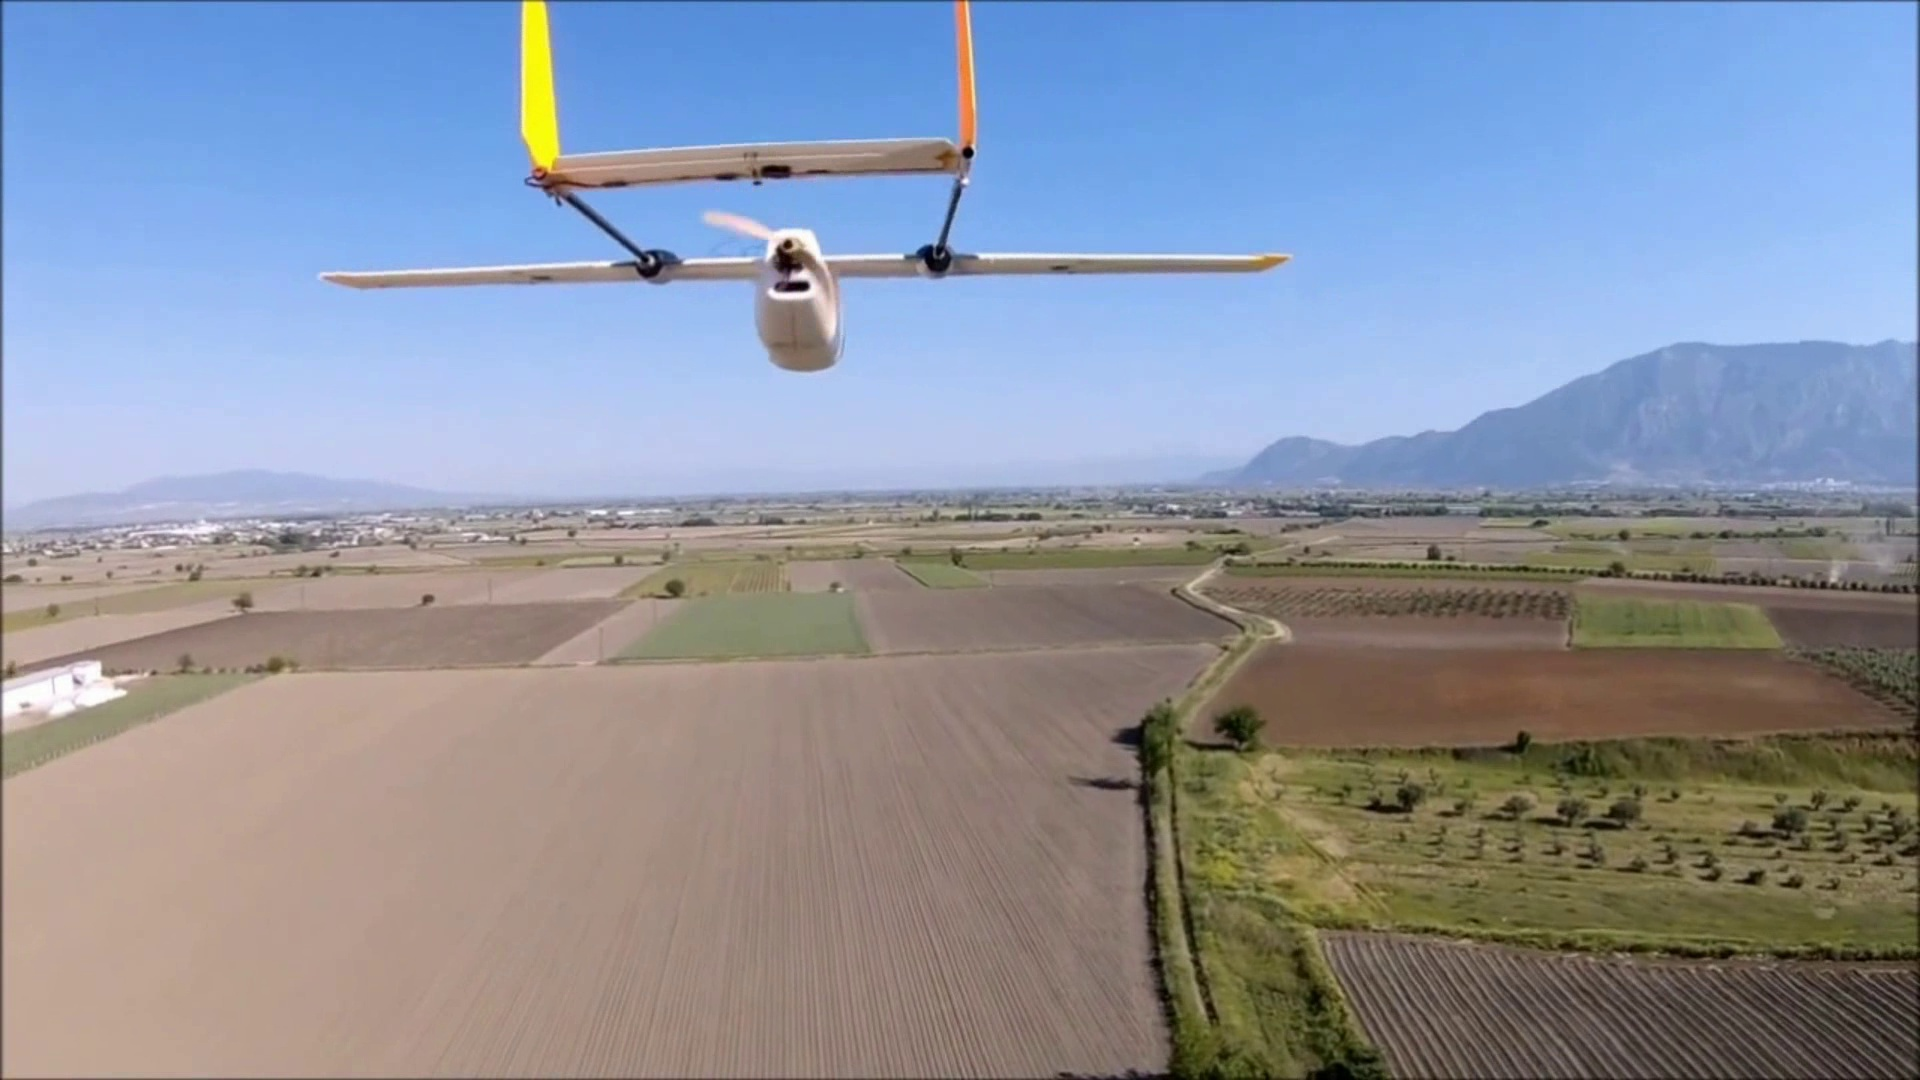airplane: (321, 4, 1290, 370)
